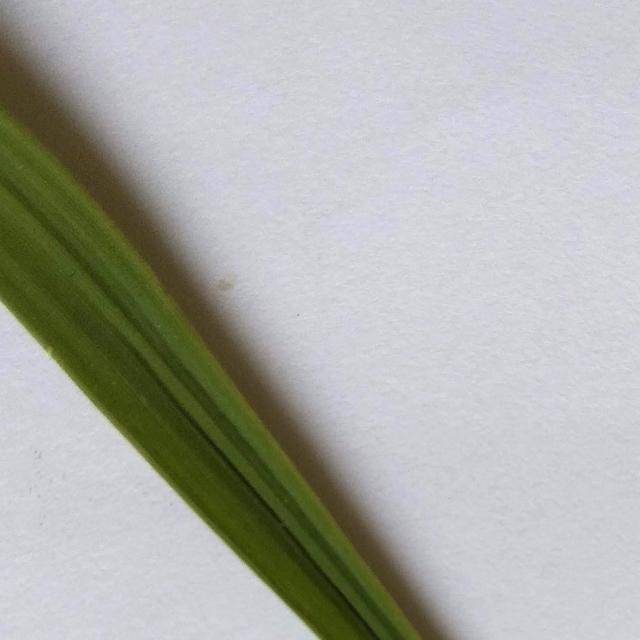healthy: (0, 99, 502, 640)
